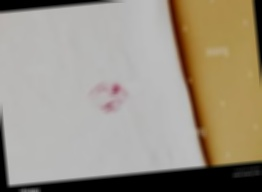lipstick: (87, 81, 127, 115)
